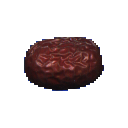gd: (16, 13, 107, 107)
